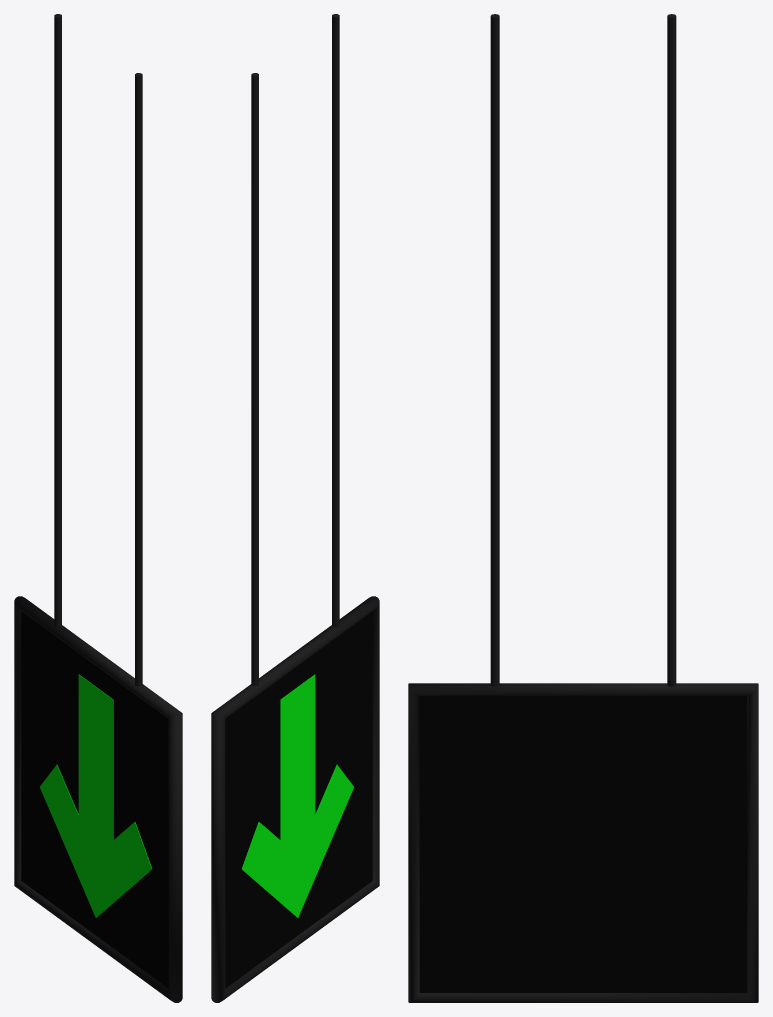
The model's file is chedaotongxing.obj.
3 renders of one model, left to right at view 1: azimuth 30°, elevation 25°; view 2: azimuth 150°, elevation 25°; view 3: azimuth 270°, elevation 25°, orthographic. The views are drawn at different scales.
Visible parts, largest first — view 1: chedao01; view 2: chedao01; view 3: chedao01.
Part boxes in pixels (x1=…): chedao01: x1=14, y1=14, x2=182, y2=1002; chedao01: x1=211, y1=14, x2=379, y2=1002; chedao01: x1=408, y1=14, x2=758, y2=1002.
Bounding box in the file's own units: 30 × 1955 × 630.
